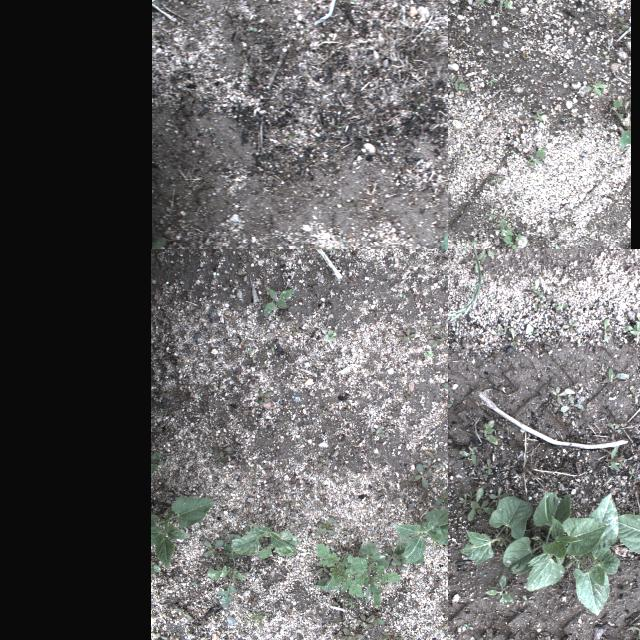crop: (317, 188, 448, 249), (564, 494, 620, 616), (503, 492, 583, 574), (526, 518, 608, 592), (150, 496, 216, 574), (459, 496, 533, 564), (392, 509, 448, 564), (230, 524, 300, 558), (617, 513, 640, 576)
weed: (355, 541, 401, 609), (313, 542, 367, 598), (207, 534, 246, 608), (448, 249, 482, 333), (262, 288, 294, 316), (484, 574, 514, 602), (494, 216, 514, 244), (468, 487, 484, 521), (478, 420, 498, 446), (561, 393, 585, 413), (582, 80, 608, 96), (468, 500, 494, 516), (414, 464, 431, 488), (624, 321, 640, 346), (458, 446, 478, 466), (396, 328, 416, 347), (610, 445, 624, 471), (203, 540, 223, 558), (384, 546, 402, 566), (526, 150, 546, 167), (597, 318, 611, 342), (339, 627, 364, 640), (318, 516, 334, 536), (548, 387, 568, 403), (608, 368, 630, 382), (356, 614, 374, 630), (448, 77, 468, 91), (610, 100, 624, 120), (529, 278, 543, 298), (470, 252, 484, 272), (481, 458, 495, 478), (150, 452, 163, 473), (434, 489, 448, 508), (489, 488, 508, 502), (400, 474, 416, 490), (291, 240, 319, 249), (420, 460, 438, 474), (562, 319, 580, 333), (480, 249, 499, 261), (379, 631, 404, 640), (530, 107, 546, 121), (258, 390, 272, 406), (370, 611, 384, 627), (428, 320, 442, 336), (606, 420, 622, 434), (619, 130, 631, 148), (508, 328, 518, 349), (629, 384, 640, 403), (564, 387, 584, 397), (486, 72, 498, 88), (534, 296, 546, 310), (493, 0, 511, 8), (522, 594, 534, 606), (459, 492, 468, 506), (324, 330, 336, 340), (549, 242, 566, 249), (528, 328, 540, 337), (442, 375, 448, 392), (556, 302, 568, 310), (498, 322, 504, 336), (300, 28, 308, 38), (635, 312, 640, 328), (466, 490, 474, 500), (463, 622, 473, 630), (628, 469, 636, 478), (320, 34, 330, 40), (514, 301, 520, 311), (603, 478, 613, 484), (622, 458, 628, 467), (468, 283, 474, 291), (248, 27, 258, 31), (556, 288, 566, 292), (479, 637, 483, 640)
